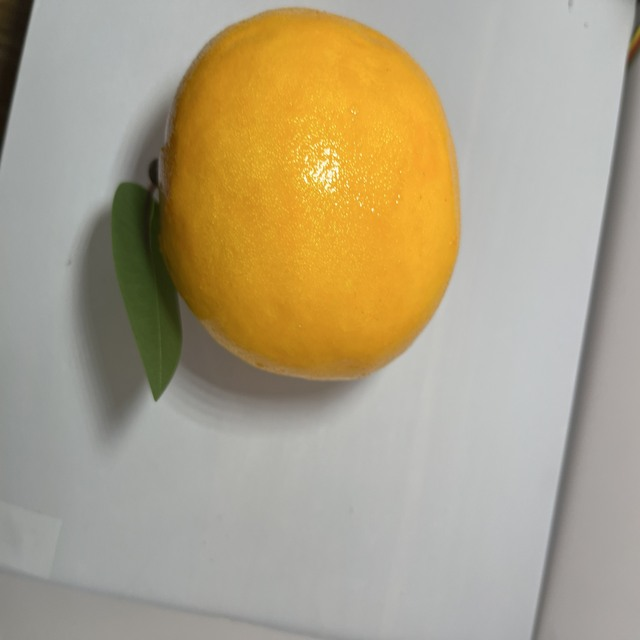Cam vang: (153, 0, 469, 385)
